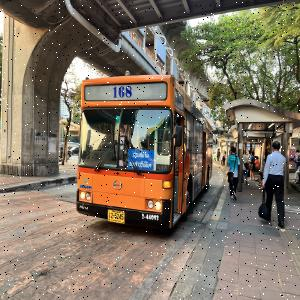BMTA-bus: (75, 75, 212, 230)
Bus Line Number: (109, 84, 137, 100)
Bus Side Number: (139, 210, 161, 222)
Destination Sign: (128, 149, 154, 171)
